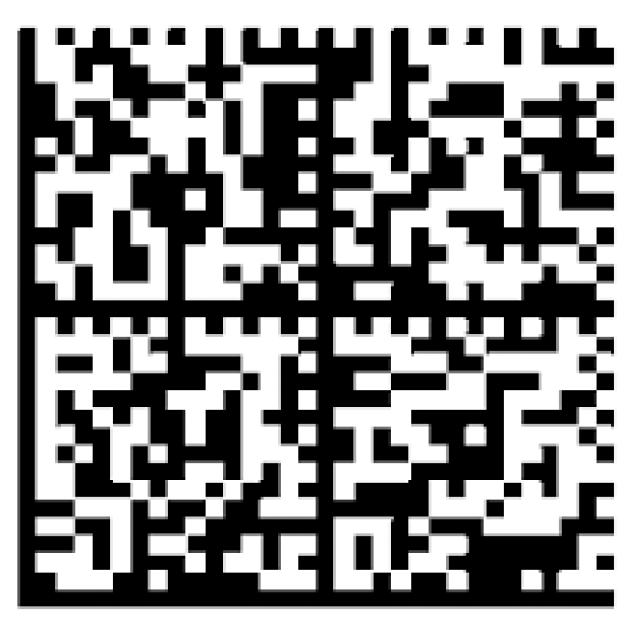datamatrix: (12, 12, 631, 620)
